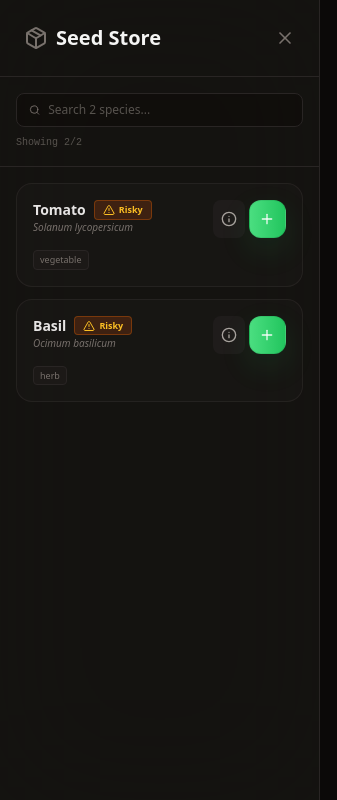
SeedStore › should show no results message when search matches nothing
In the field with placeholder "Search 2 species...": (169, 110) x1=48 y1=102 x2=290 y2=118, type "nonexistent"
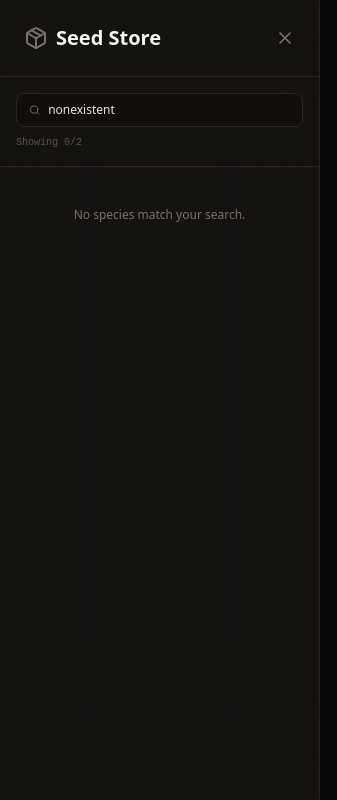
expect the text "No species match your search." is shown: met, box x1=74 y1=206 x2=245 y2=223
